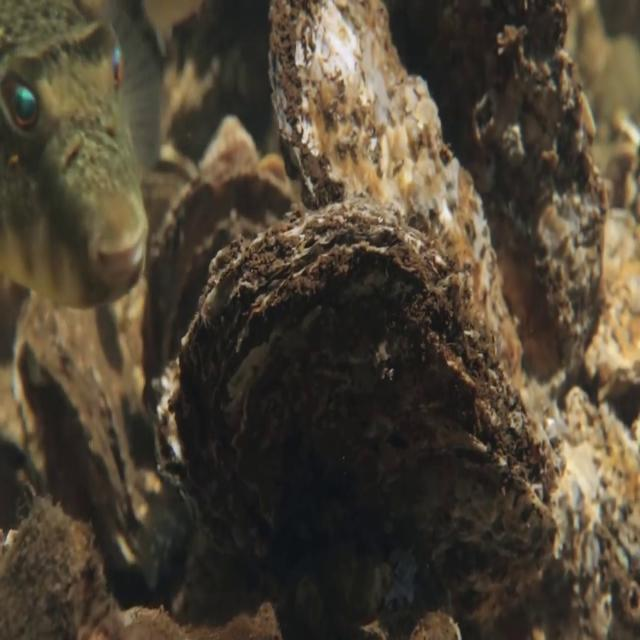Oyster-Closed: (20, 336, 150, 579)
Oyster-Indeterminate: (174, 195, 555, 611), (262, 4, 524, 375), (470, 23, 608, 425), (536, 387, 640, 639)
Oyster-Open: (137, 159, 295, 392)
